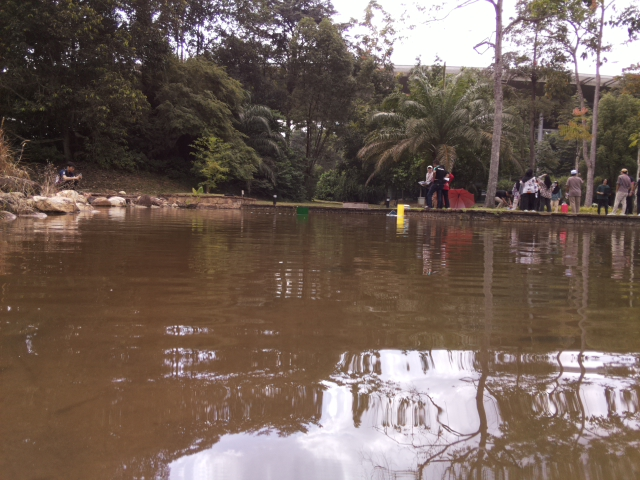obstacle: (295, 205, 310, 215)
